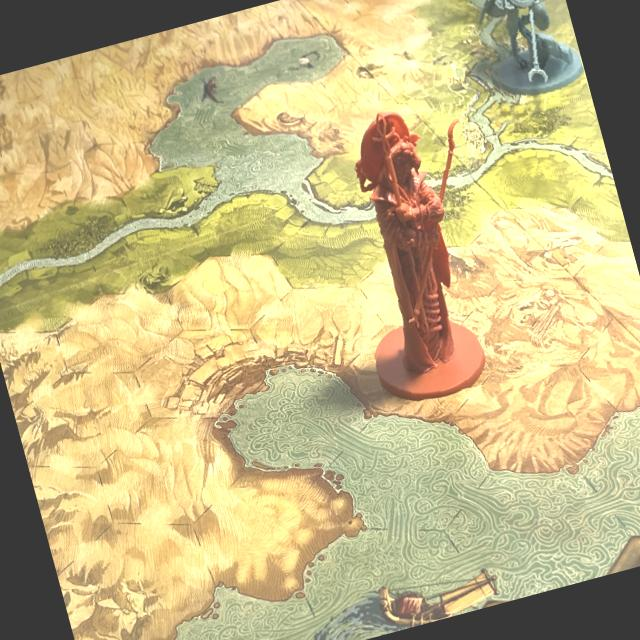amon: (313, 89, 525, 409)
isis: (450, 0, 591, 124)
